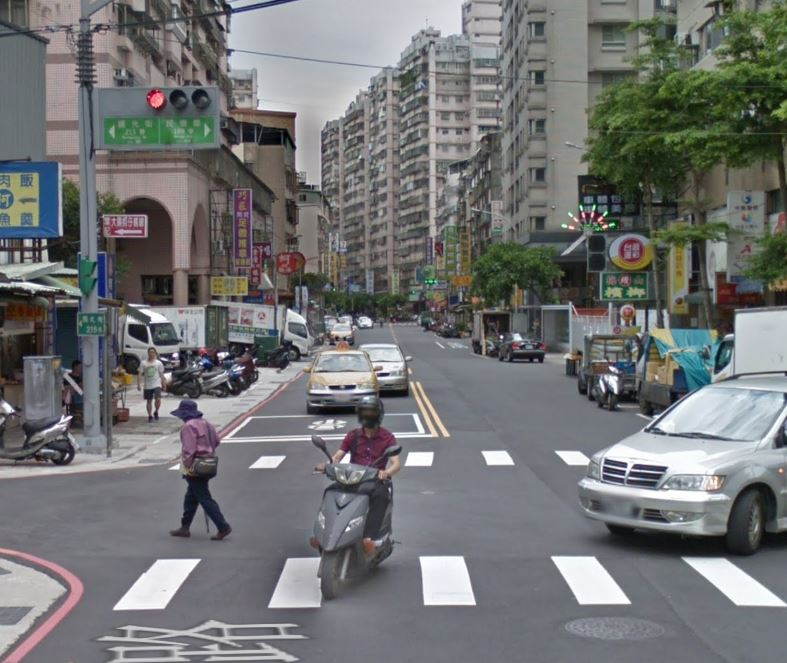Traffic_light_red: (143, 86, 213, 115)
